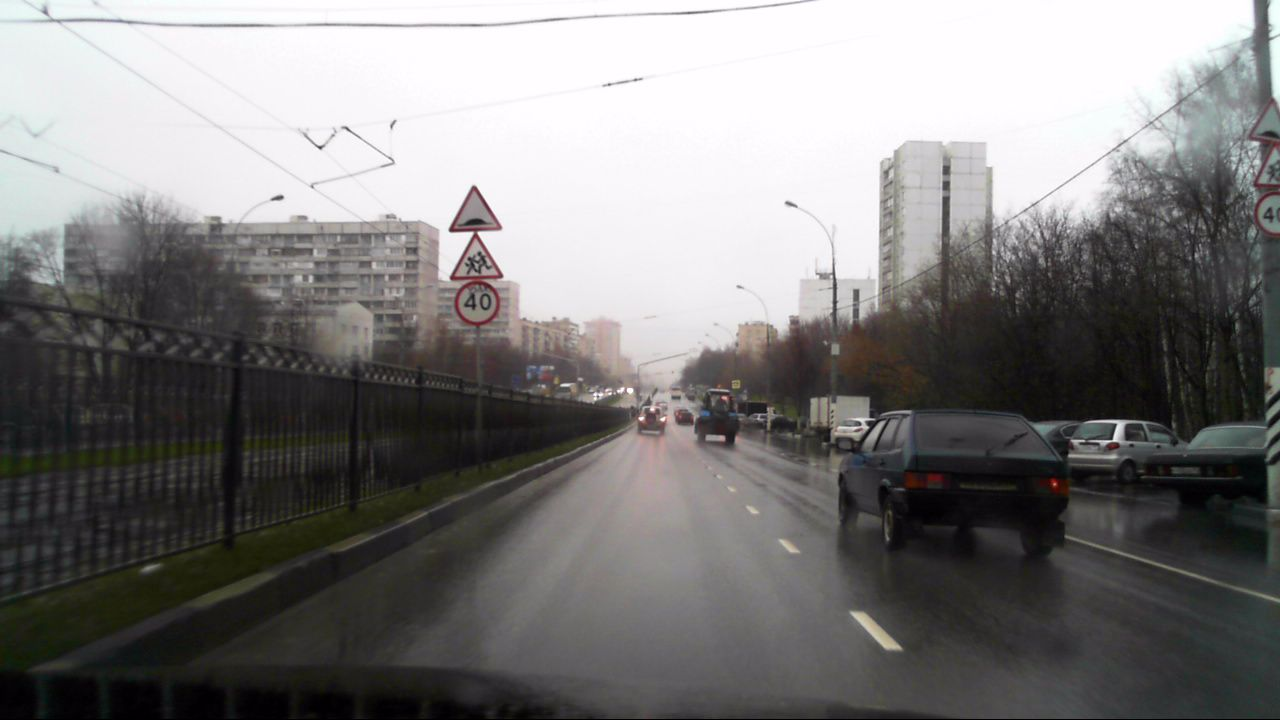speed_warning_40: (455, 283, 499, 323)
